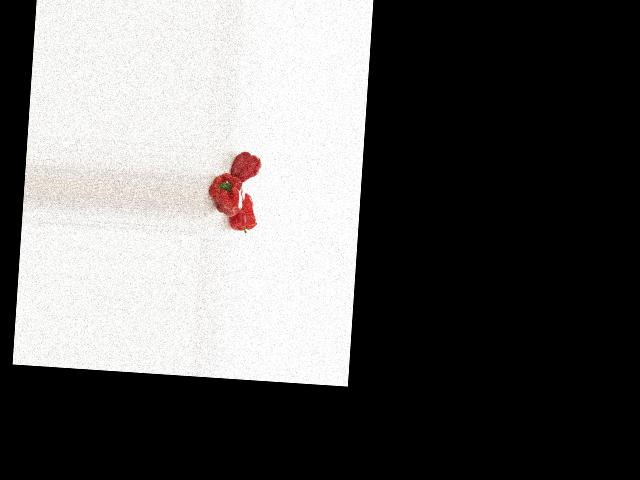bell_pepper: (228, 148, 262, 181)
